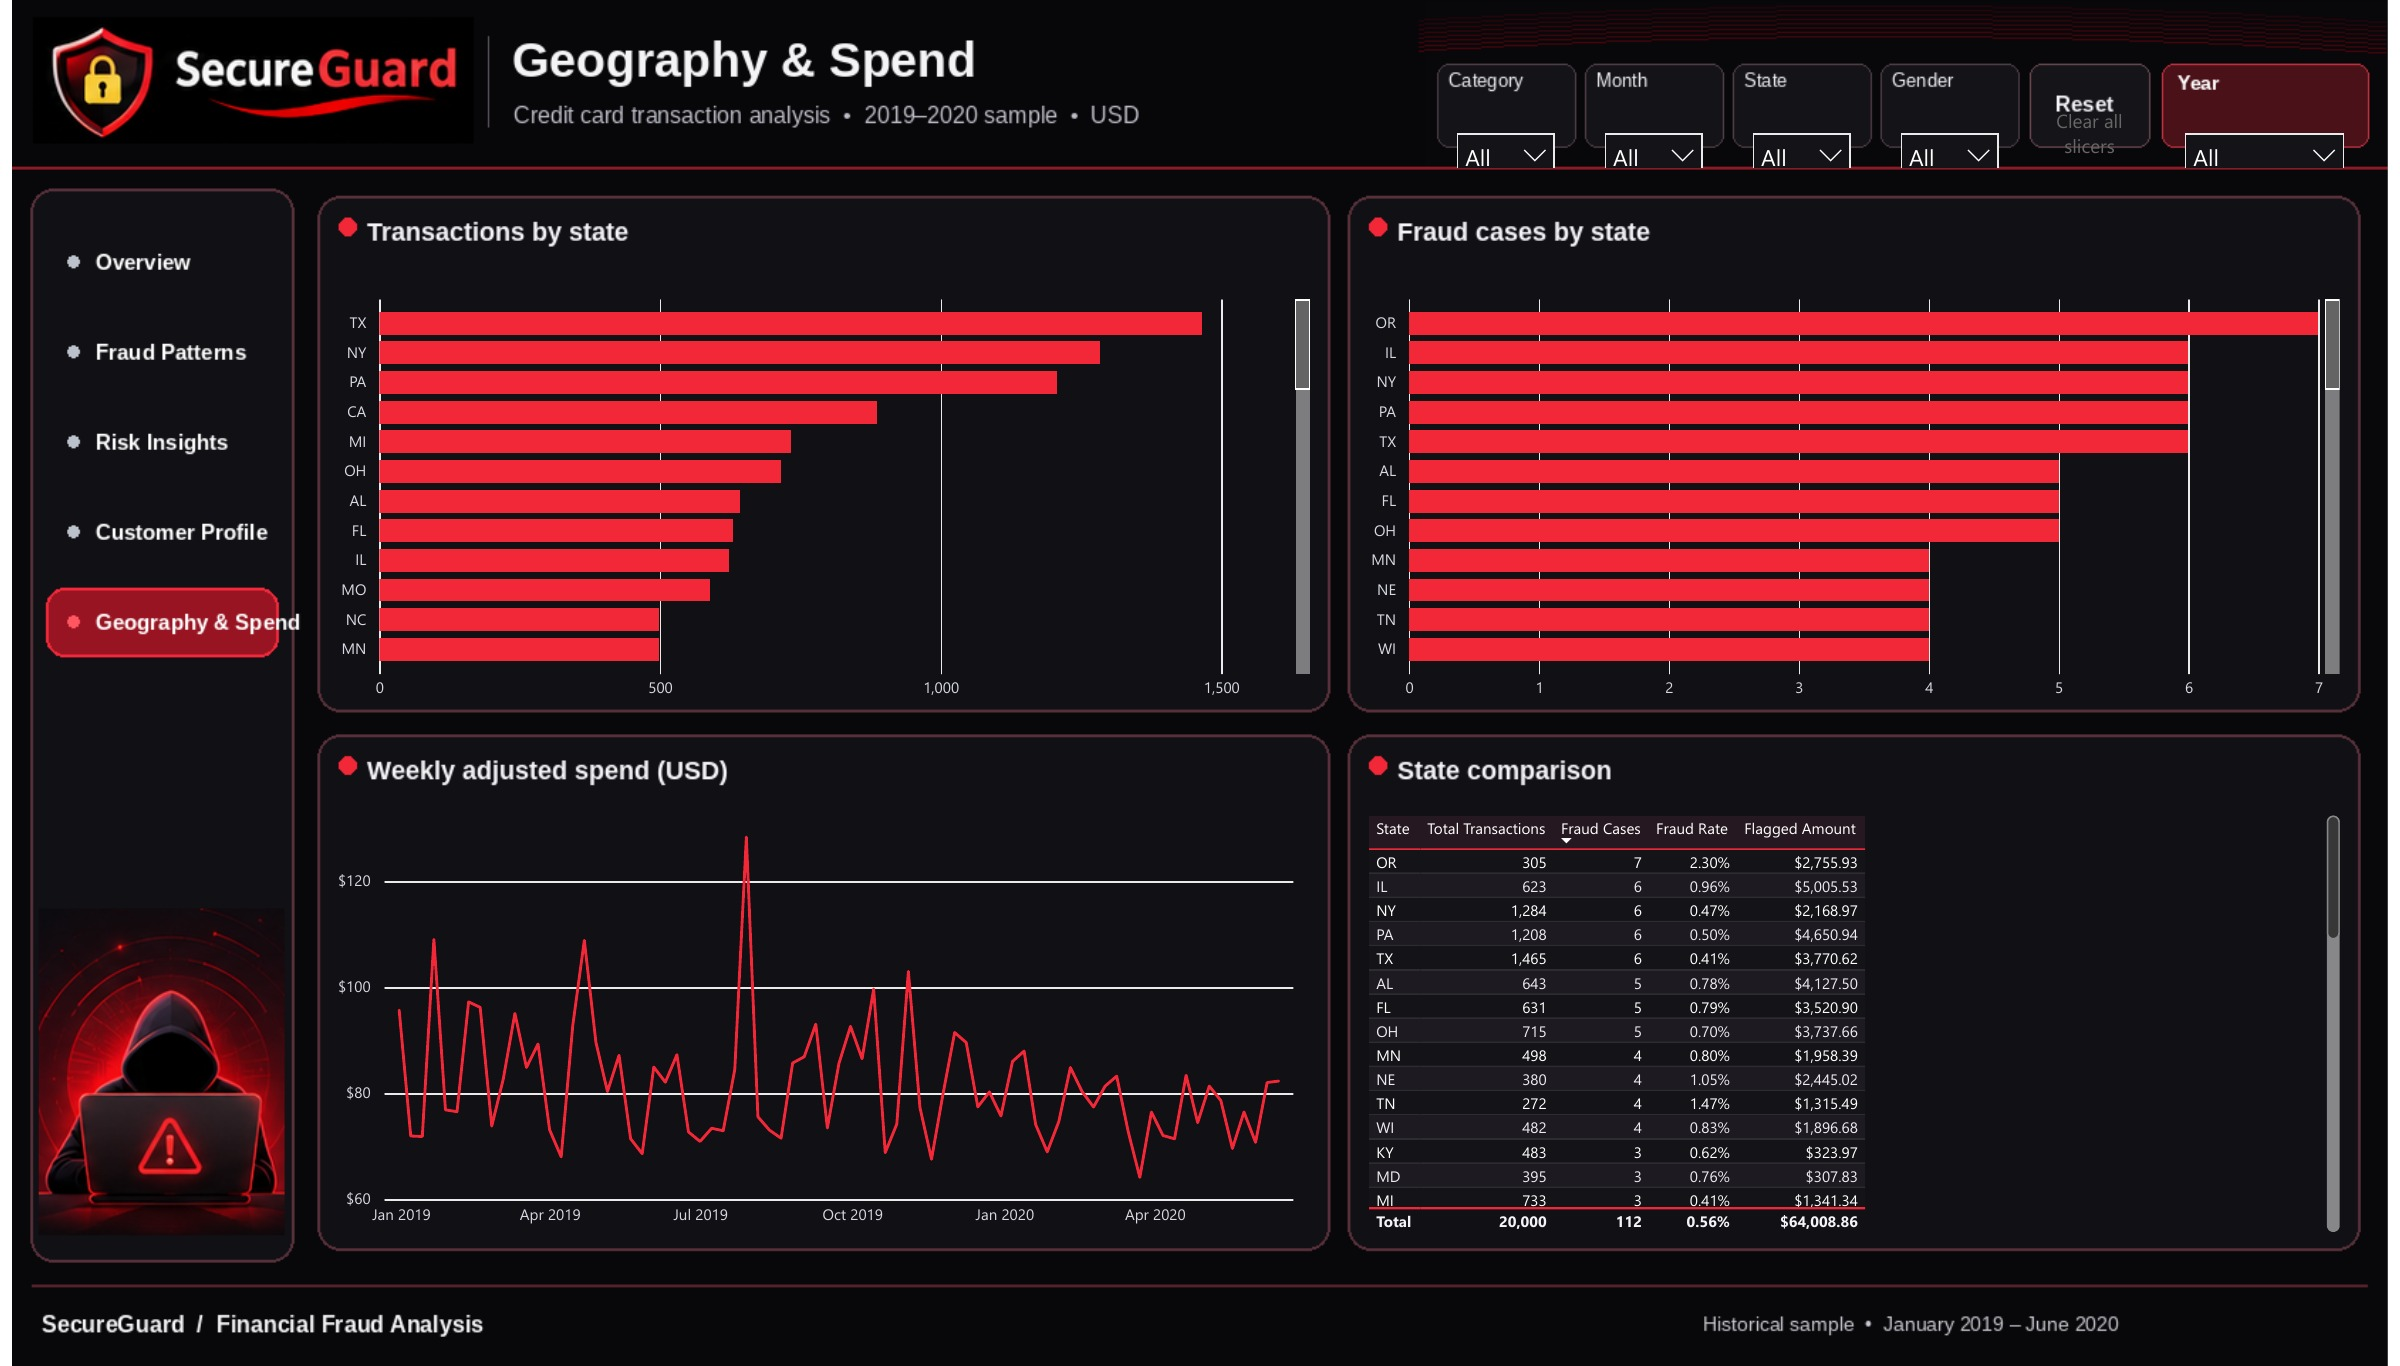

What the dashboard file says about the page in this screenshot:
{"tool":"powerbi","page":{"name":"Geography & Spend","canvas":[1672,941],"ordinal":4},"visuals":[{"type":"slicer","fields":{"Values":["Transactions.Category"]},"box":[1007,64,89,34],"z":9000},{"type":"slicer","fields":{"Values":["Transactions.Month"]},"box":[1111,64,89,34],"z":10000},{"type":"slicer","fields":{"Values":["Transactions.State"]},"box":[1215,64,89,34],"z":11000},{"type":"slicer","fields":{"Values":["Transactions.Gender"]},"box":[1319,64,89,34],"z":12000},{"type":"actionButton","box":[1420,44,84,57],"z":14000},{"type":"barChart","fields":{"Category":["Transactions.State"],"Y":["Transactions.Total Transactions"]},"box":[224,178,694,303],"z":16000},{"type":"barChart","fields":{"Category":["Transactions.State"],"Y":["Transactions.Fraud Cases"]},"box":[949,178,694,303],"z":18000},{"type":"lineChart","fields":{"Category":["Transactions.Week Starting"],"Y":["Transactions.Average Amount in 2026 Dollars"]},"box":[224,549,694,303],"z":20000},{"type":"tableEx","fields":{"Values":["Transactions.State","Transactions.Total Transactions","Transactions.Fraud Cases","Transactions.Fraud Rate","Transactions.Flagged Amount"]},"box":[949,549,694,303],"z":22000},{"type":"actionButton","box":[24,157,163,47],"z":95000},{"type":"actionButton","box":[24,219,163,47],"z":95001},{"type":"actionButton","box":[24,281,163,47],"z":95002},{"type":"actionButton","box":[24,343,163,47],"z":95003},{"type":"actionButton","box":[24,405,163,47],"z":95004},{"type":"slicer","fields":{"Values":["Transactions.Year"]},"box":[1519,64,132,34],"z":95150}]}

Visuals, with their boxes in screenshot pixels (x1, y1, x2, y2), scaled from the page's 1672x941 canvas onto the 2400x1366 screenshot:
slicer - Transactions.Category: [1445, 93, 1573, 142]
slicer - Transactions.Month: [1595, 93, 1722, 142]
slicer - Transactions.State: [1744, 93, 1872, 142]
slicer - Transactions.Gender: [1893, 93, 2021, 142]
actionButton: [2038, 64, 2159, 147]
barChart - Transactions.State x Transactions.Total Transactions: [322, 258, 1318, 698]
barChart - Transactions.State x Transactions.Fraud Cases: [1362, 258, 2358, 698]
lineChart - Transactions.Week Starting x Transactions.Average Amount in 2026 Dollars: [322, 797, 1318, 1237]
tableEx - Transactions.State x Transactions.Total Transactions: [1362, 797, 2358, 1237]
actionButton: [34, 228, 268, 296]
actionButton: [34, 318, 268, 386]
actionButton: [34, 408, 268, 476]
actionButton: [34, 498, 268, 566]
actionButton: [34, 588, 268, 656]
slicer - Transactions.Year: [2180, 93, 2370, 142]
